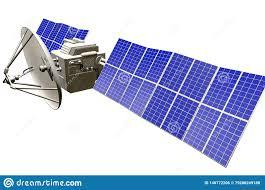antenna: (0, 23, 64, 113)
body: (48, 35, 108, 95)
solar: (90, 36, 265, 168), (32, 16, 92, 64)
